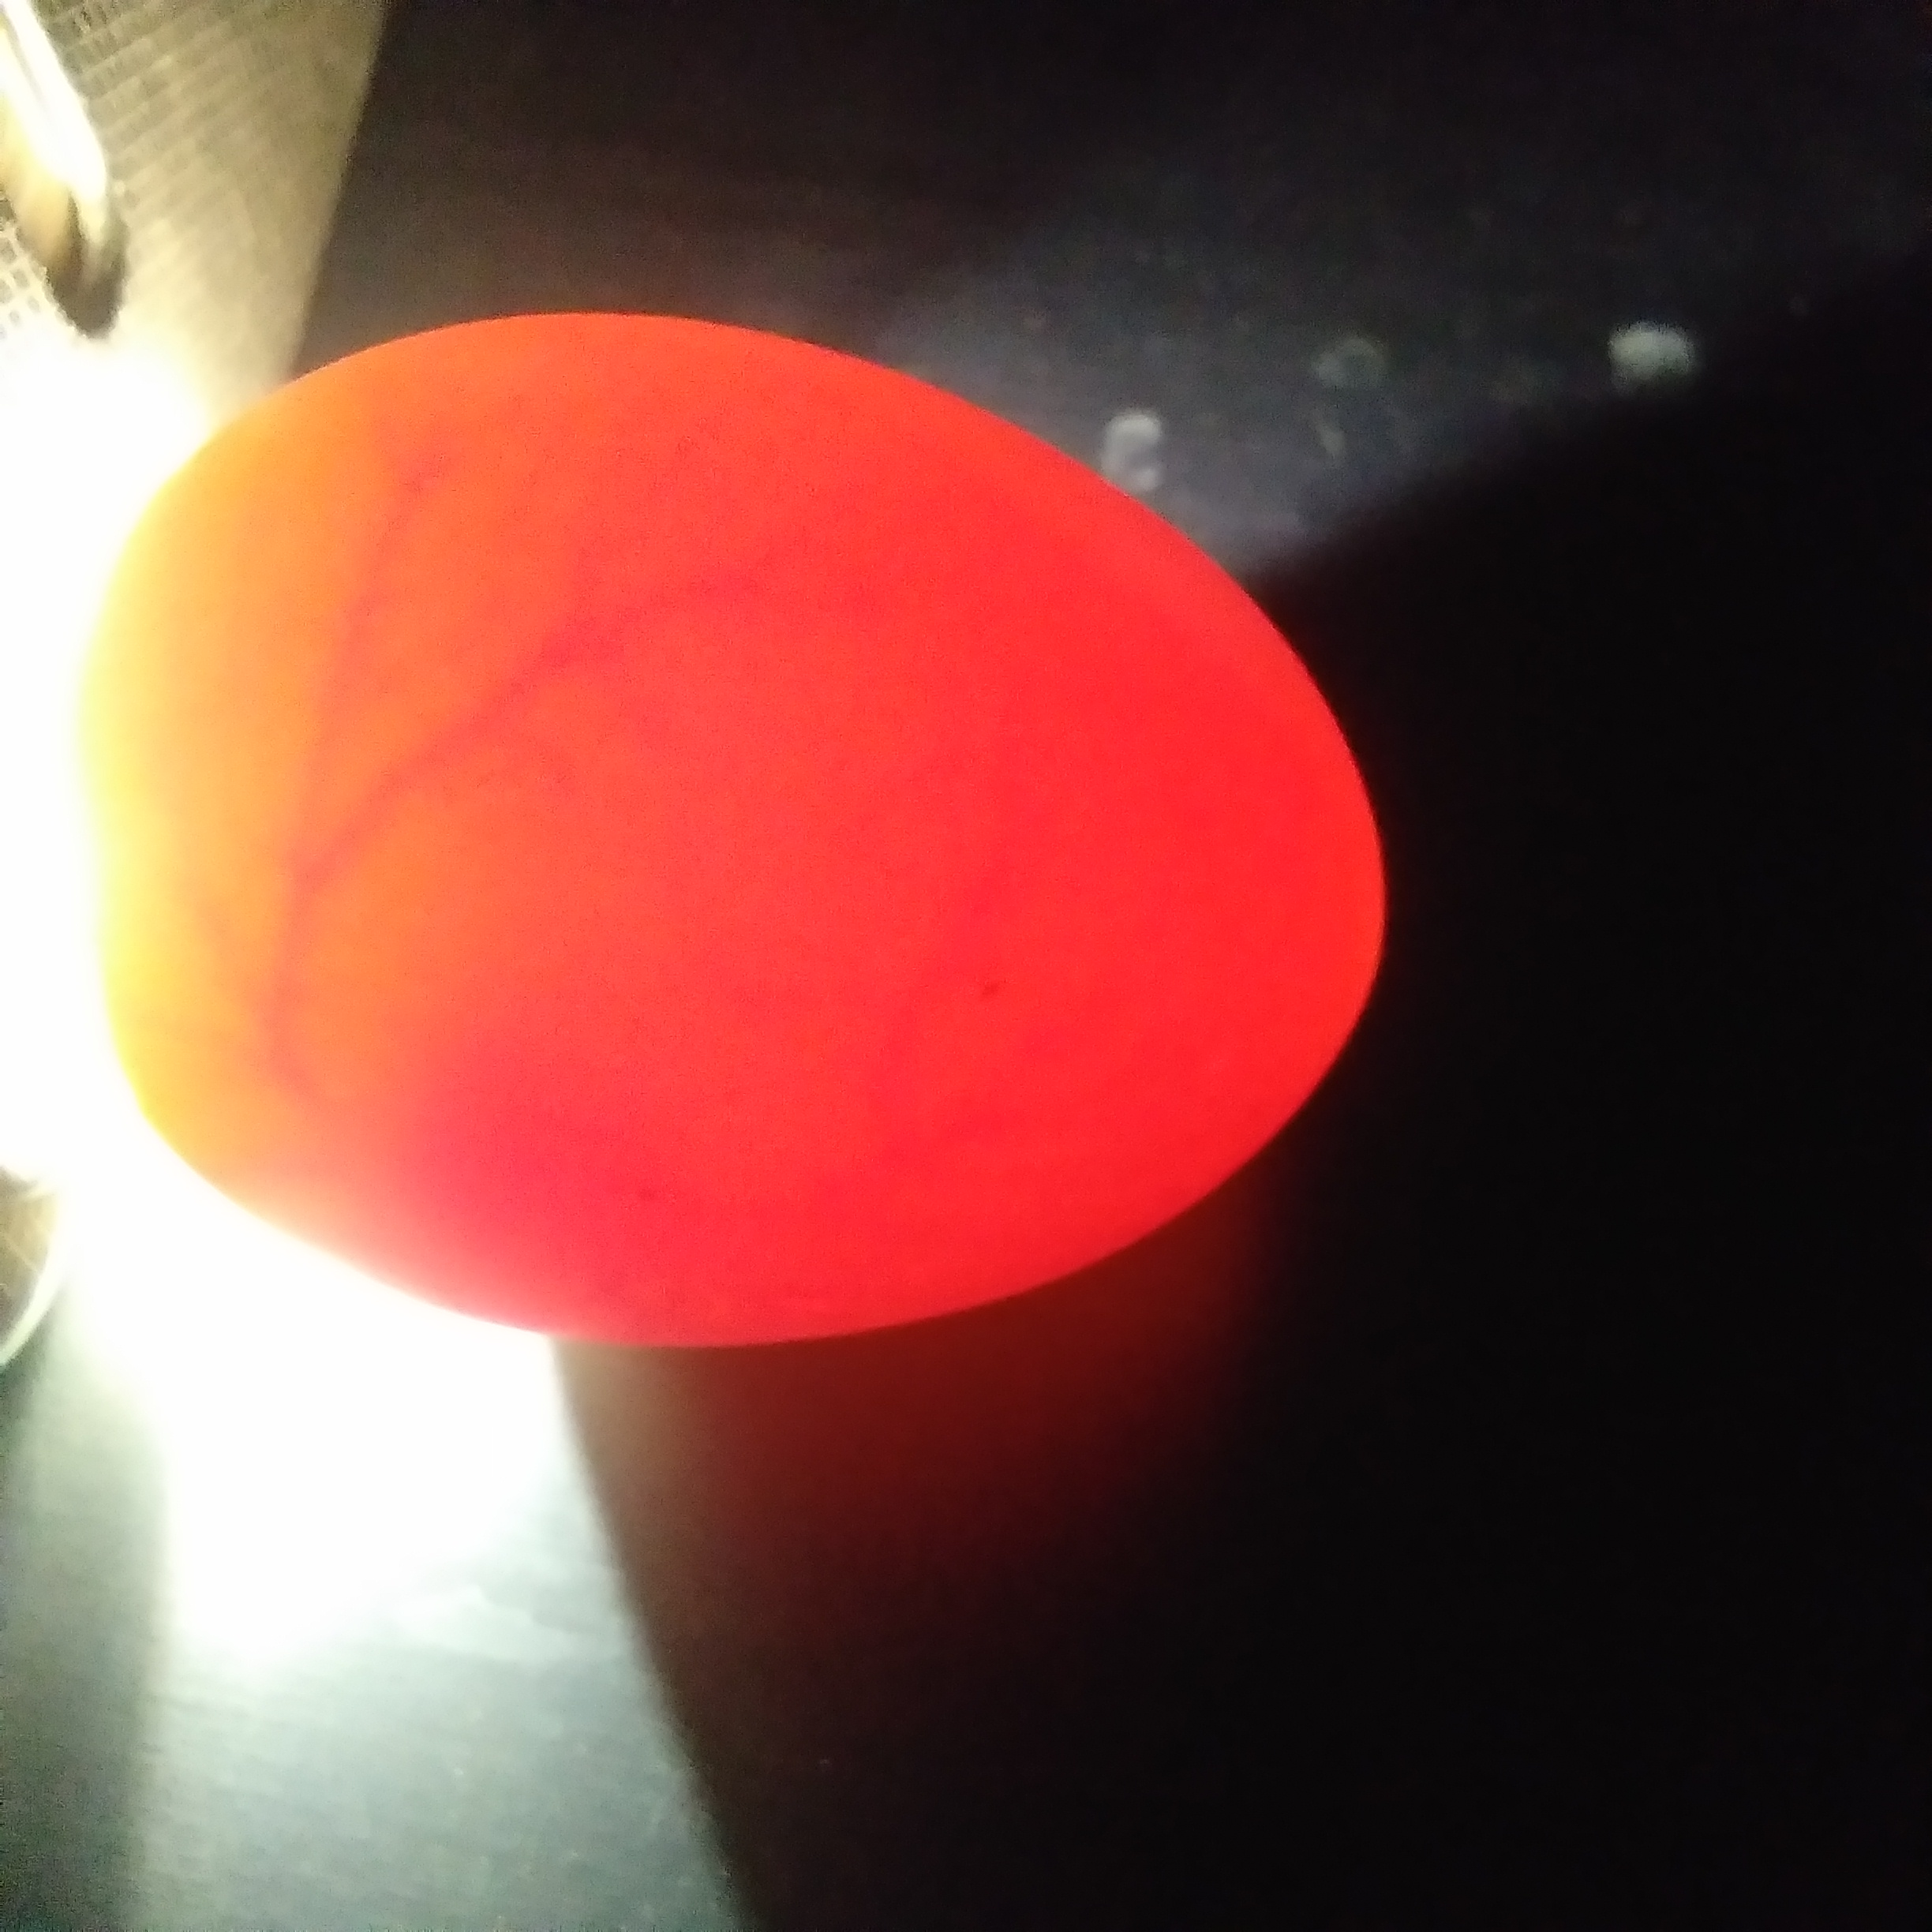bloodcell: (244, 501, 685, 952), (157, 989, 356, 1109)
embryo: (364, 1162, 619, 1307)
